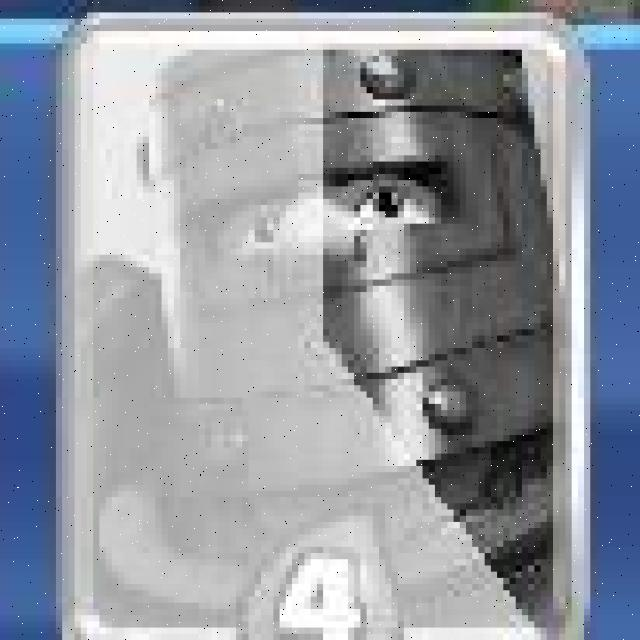Dark_Prince: (50, 8, 590, 640)
